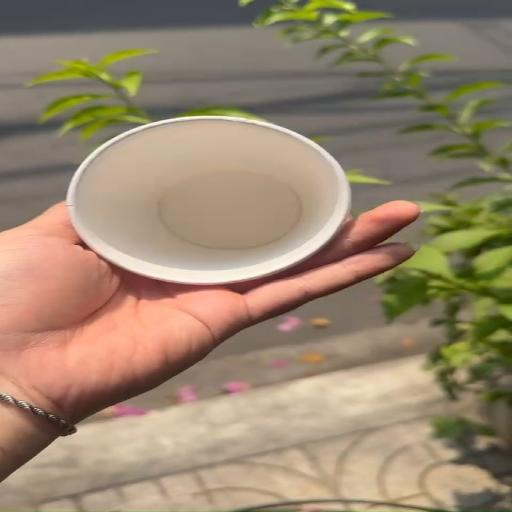Ly_giay: (66, 116, 350, 285)
